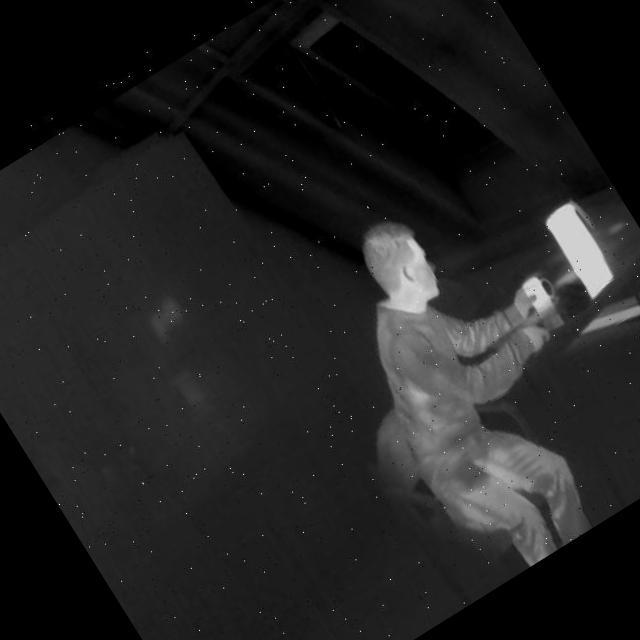person: (258, 164, 640, 611)
